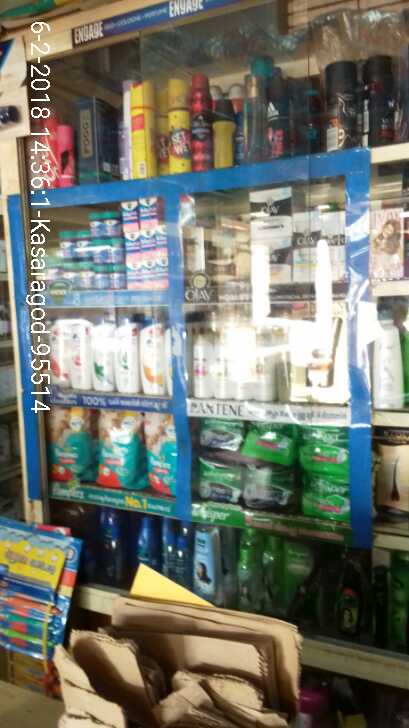vicks: (40, 195, 174, 297)
